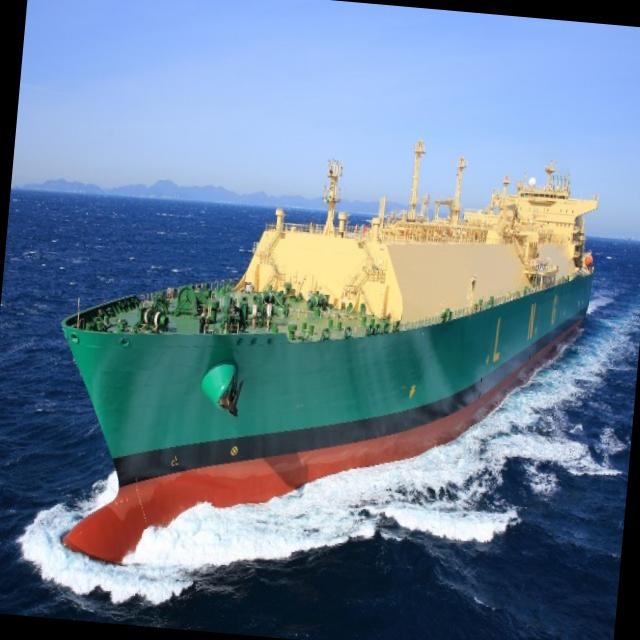boat: (28, 115, 634, 622)
